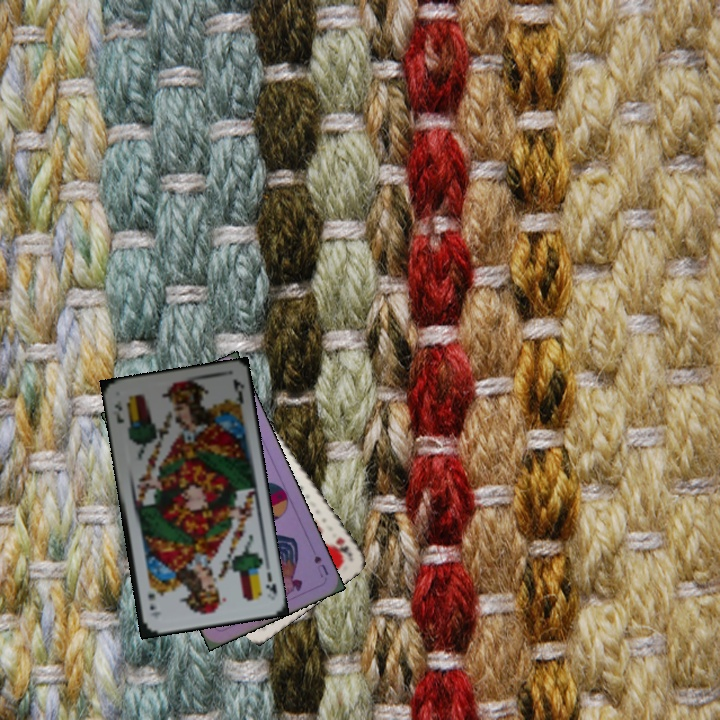EK: (262, 568, 280, 600), (109, 397, 127, 426)
HK: (331, 533, 355, 559)
SU: (310, 551, 331, 580)
